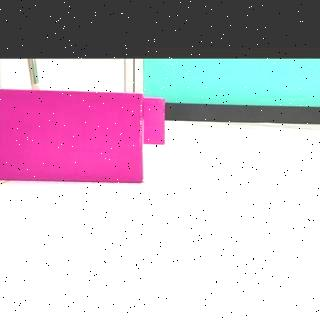xparking: (3, 95, 142, 182), (145, 100, 163, 140)
